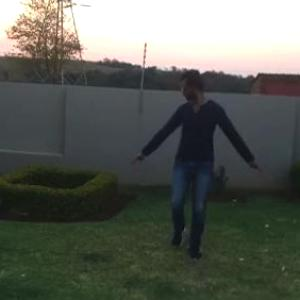land: (117, 57, 294, 288)
